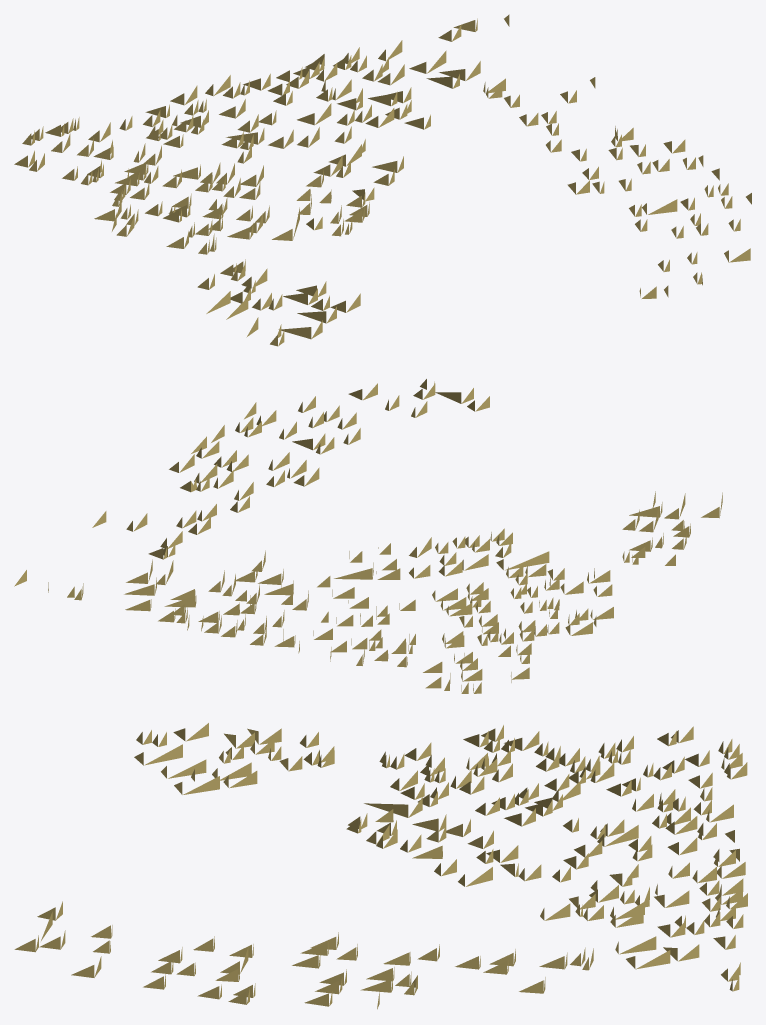
3 views of the same model, one above another, from view 1: azimuth 30°, elevation 25°; view 2: azimuth 150°, elevation 25°; view 3: azimuth 270°, elevation 25° (orthographic). The views are drawn at different scales.
Size of the model in its own units: 335 by 7.5 by 371.
